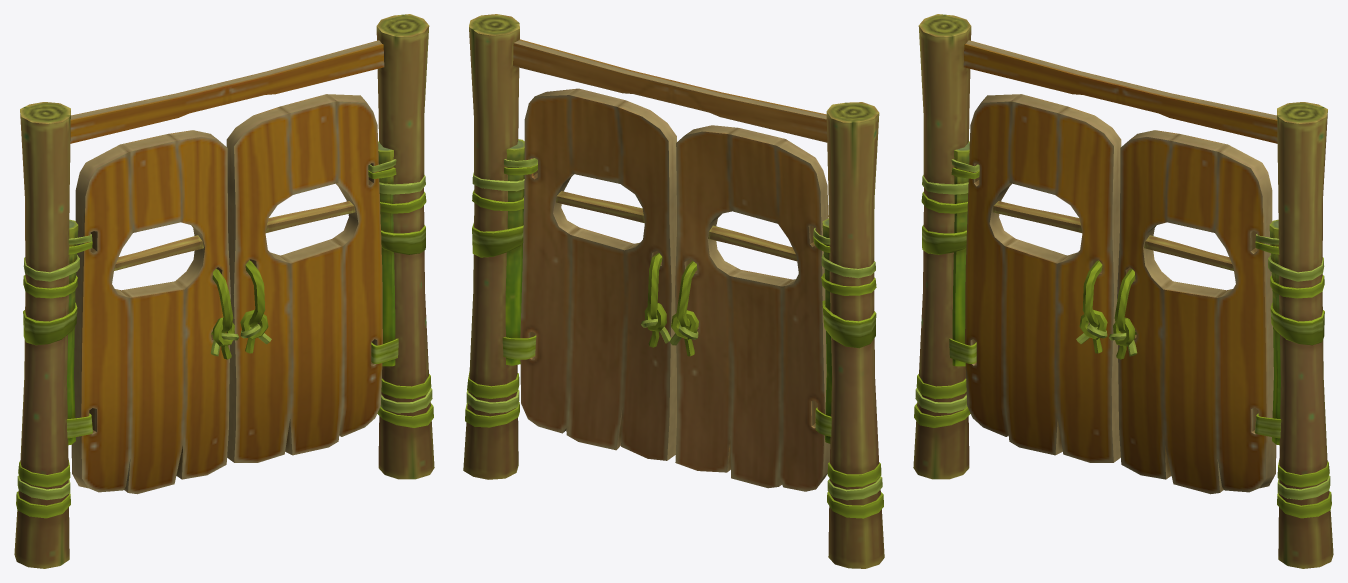
File: acorn_door_01.fbx
3 views of the same model, side by side, from view 1: azimuth 30°, elevation 25°; view 2: azimuth 150°, elevation 25°; view 3: azimuth 330°, elevation 25° (orthographic).
Parts seen in each view (by area): view 1: menkuang01, men01, men02; view 2: menkuang01, men02, men01; view 3: menkuang01, men02, men01.
Boxes of the visible parts, x1,y1,x2,y2 form: menkuang01: (14,14,434,568); men01: (66,130,239,494); men02: (226,94,398,462); menkuang01: (463,14,884,568); men02: (502,88,676,460); men01: (670,125,831,491); menkuang01: (913,14,1333,568); men02: (1108,130,1281,494); men01: (949,94,1121,462).
Bounding box in the file's own units: 84.25 × 86.68 × 12.62.
